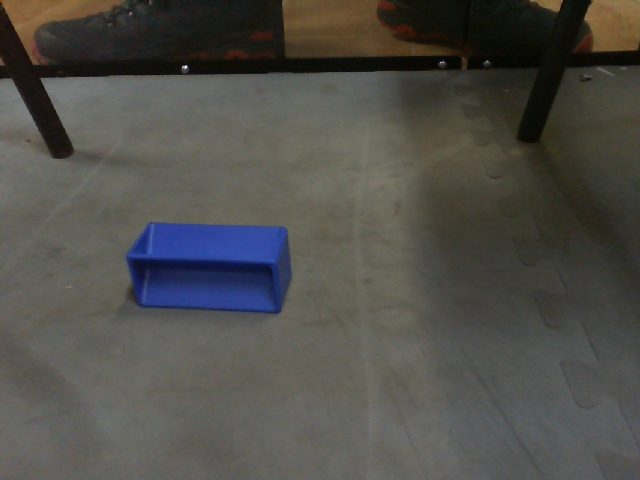BlueSample: (122, 214, 296, 319)
